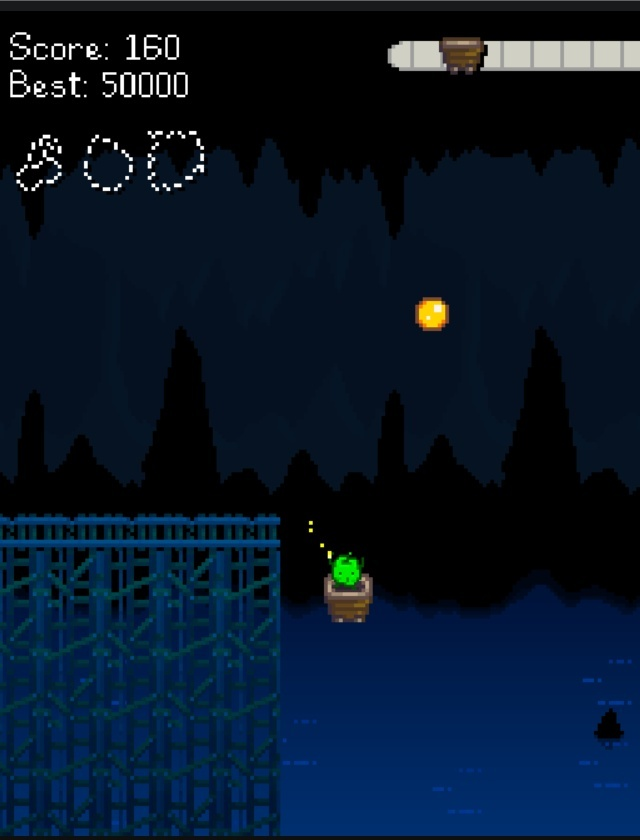coins: (415, 298, 447, 330)
minecart: (324, 574, 372, 622)
tracks: (0, 494, 281, 551)
